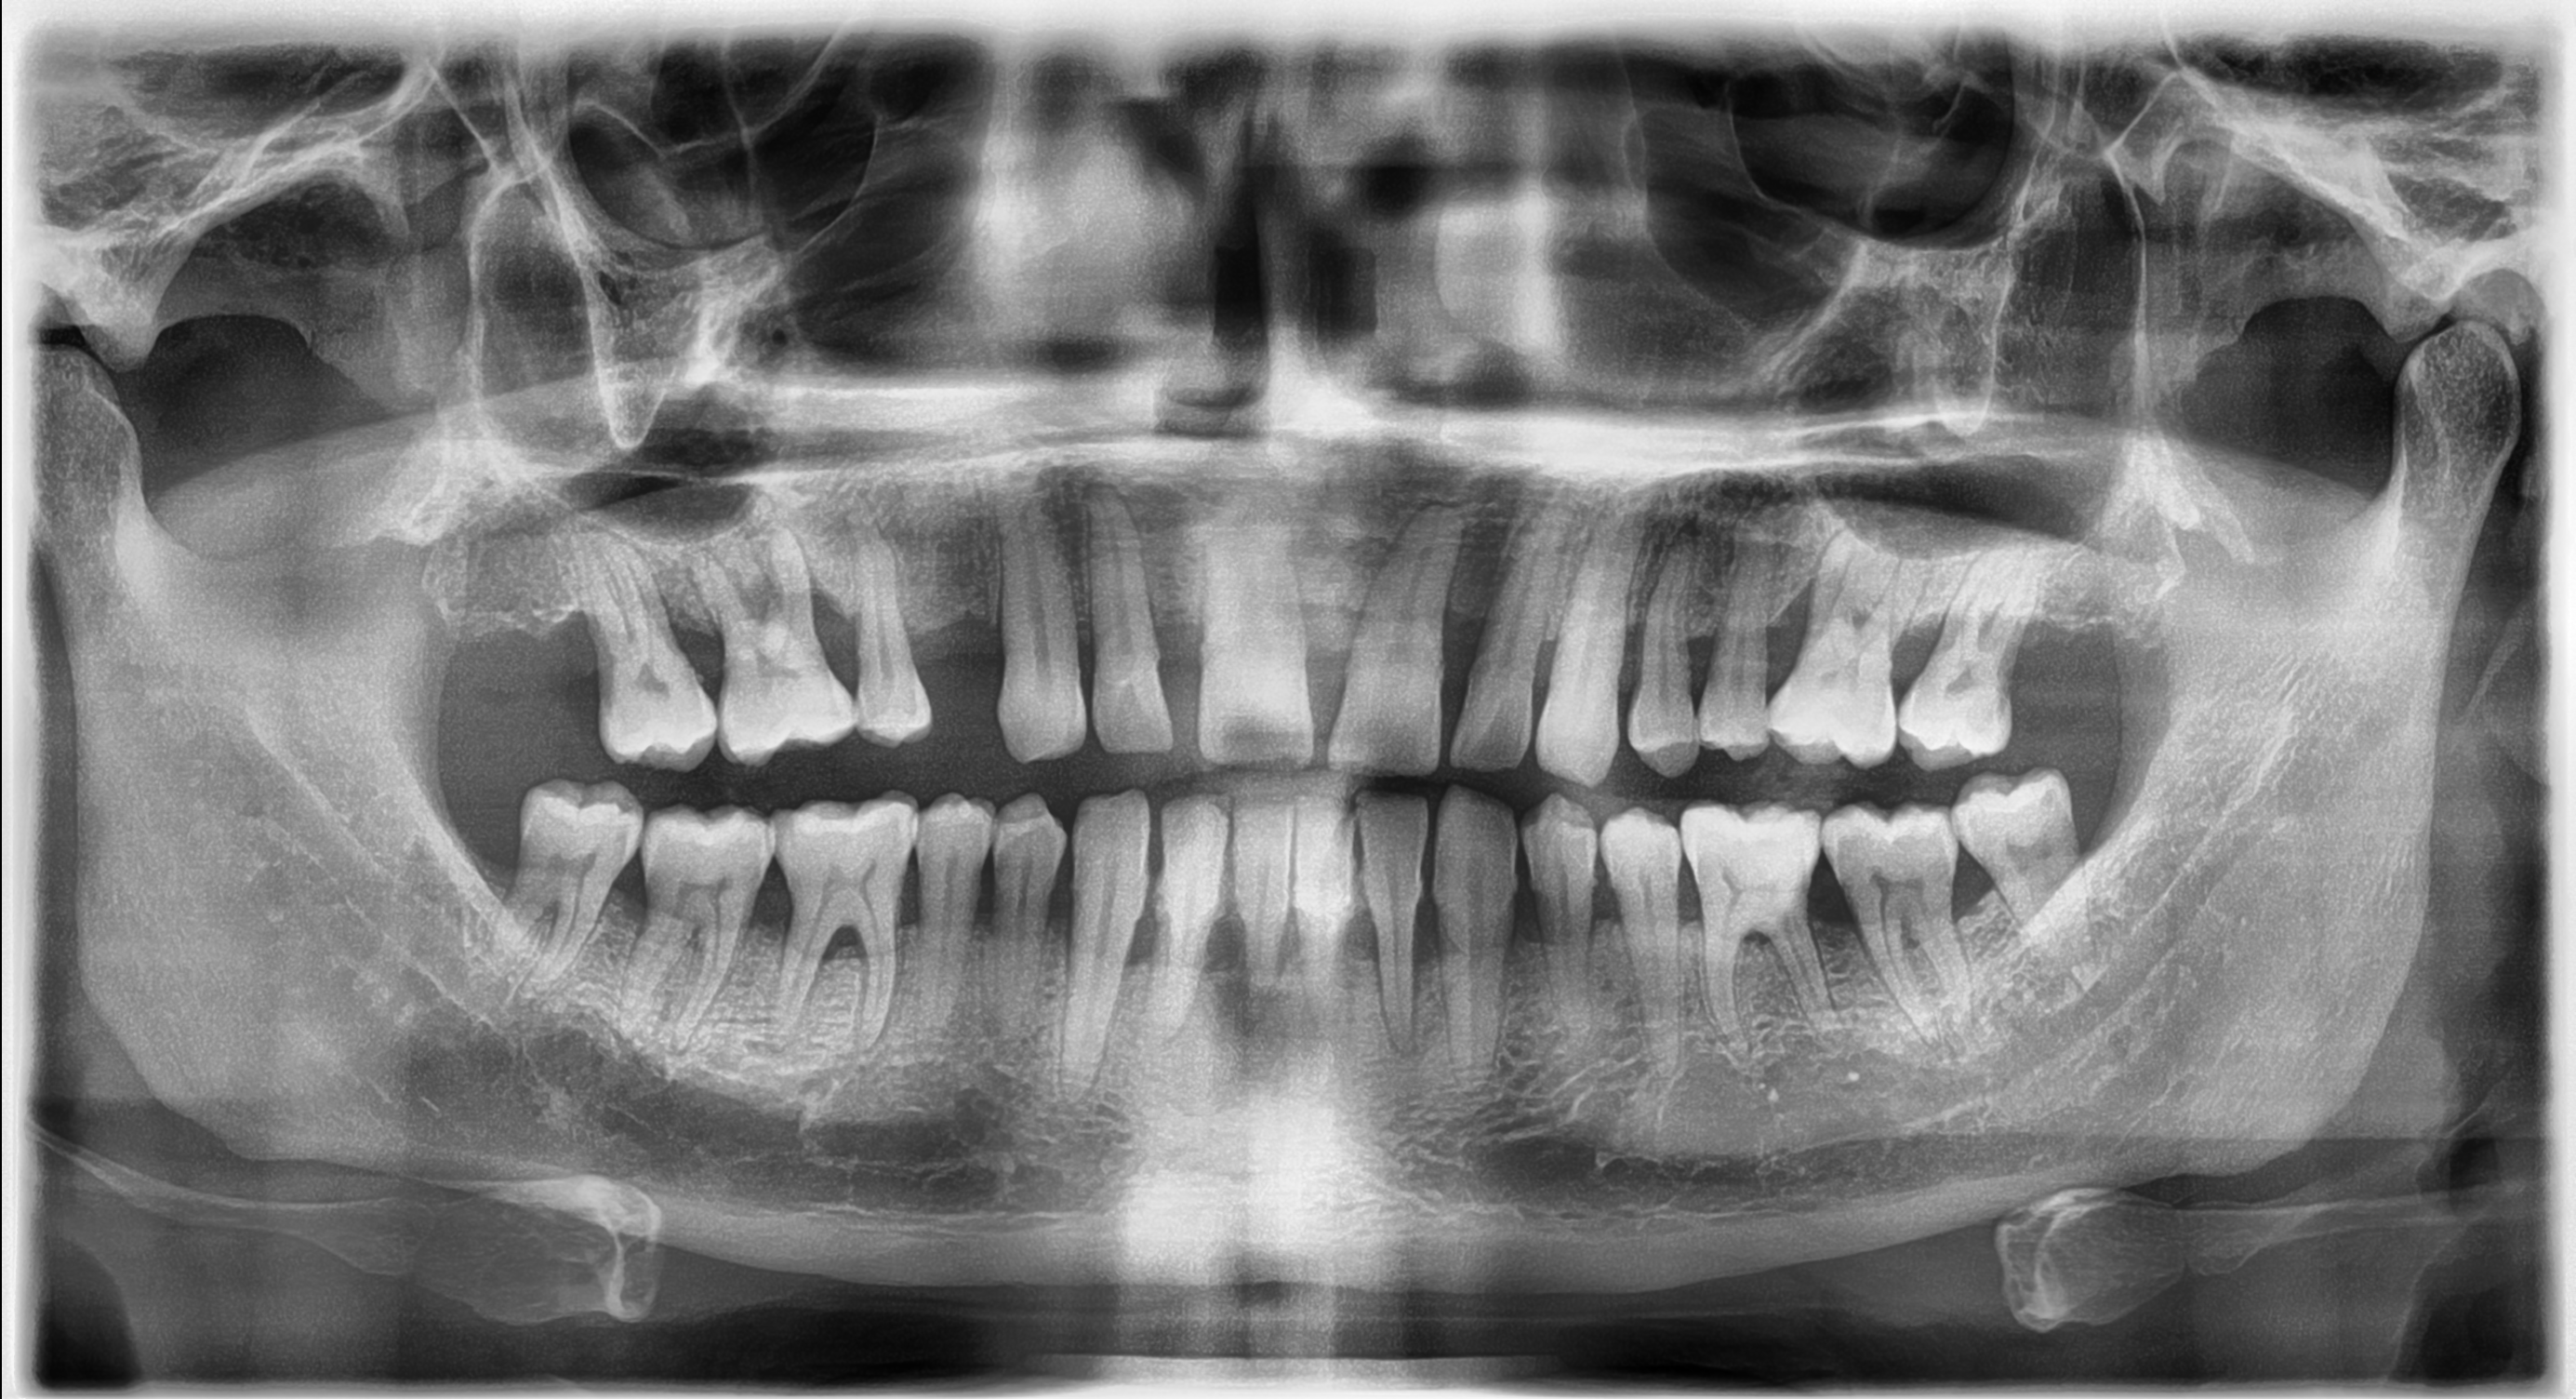cordal: (477, 760, 649, 1022), (1944, 751, 2120, 963)
diastema: (1135, 543, 1216, 755), (1288, 541, 1353, 775), (1414, 544, 1479, 779)
zona_dentula: (895, 524, 1021, 756)
